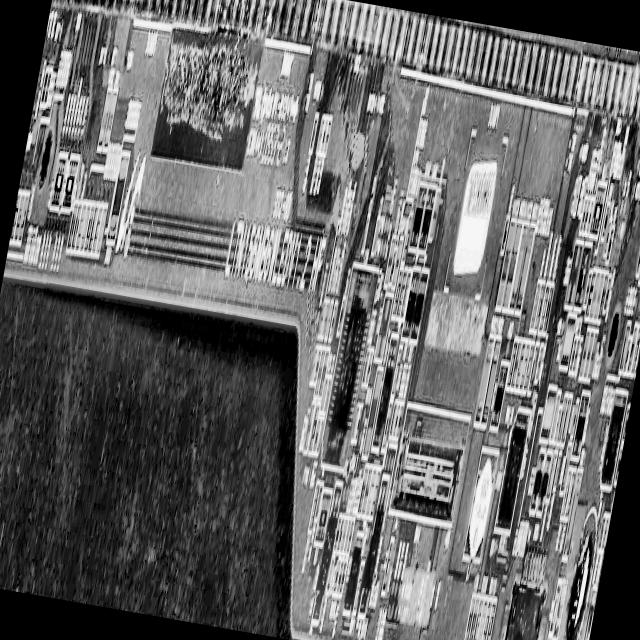PCB: (2, 0, 640, 640)
